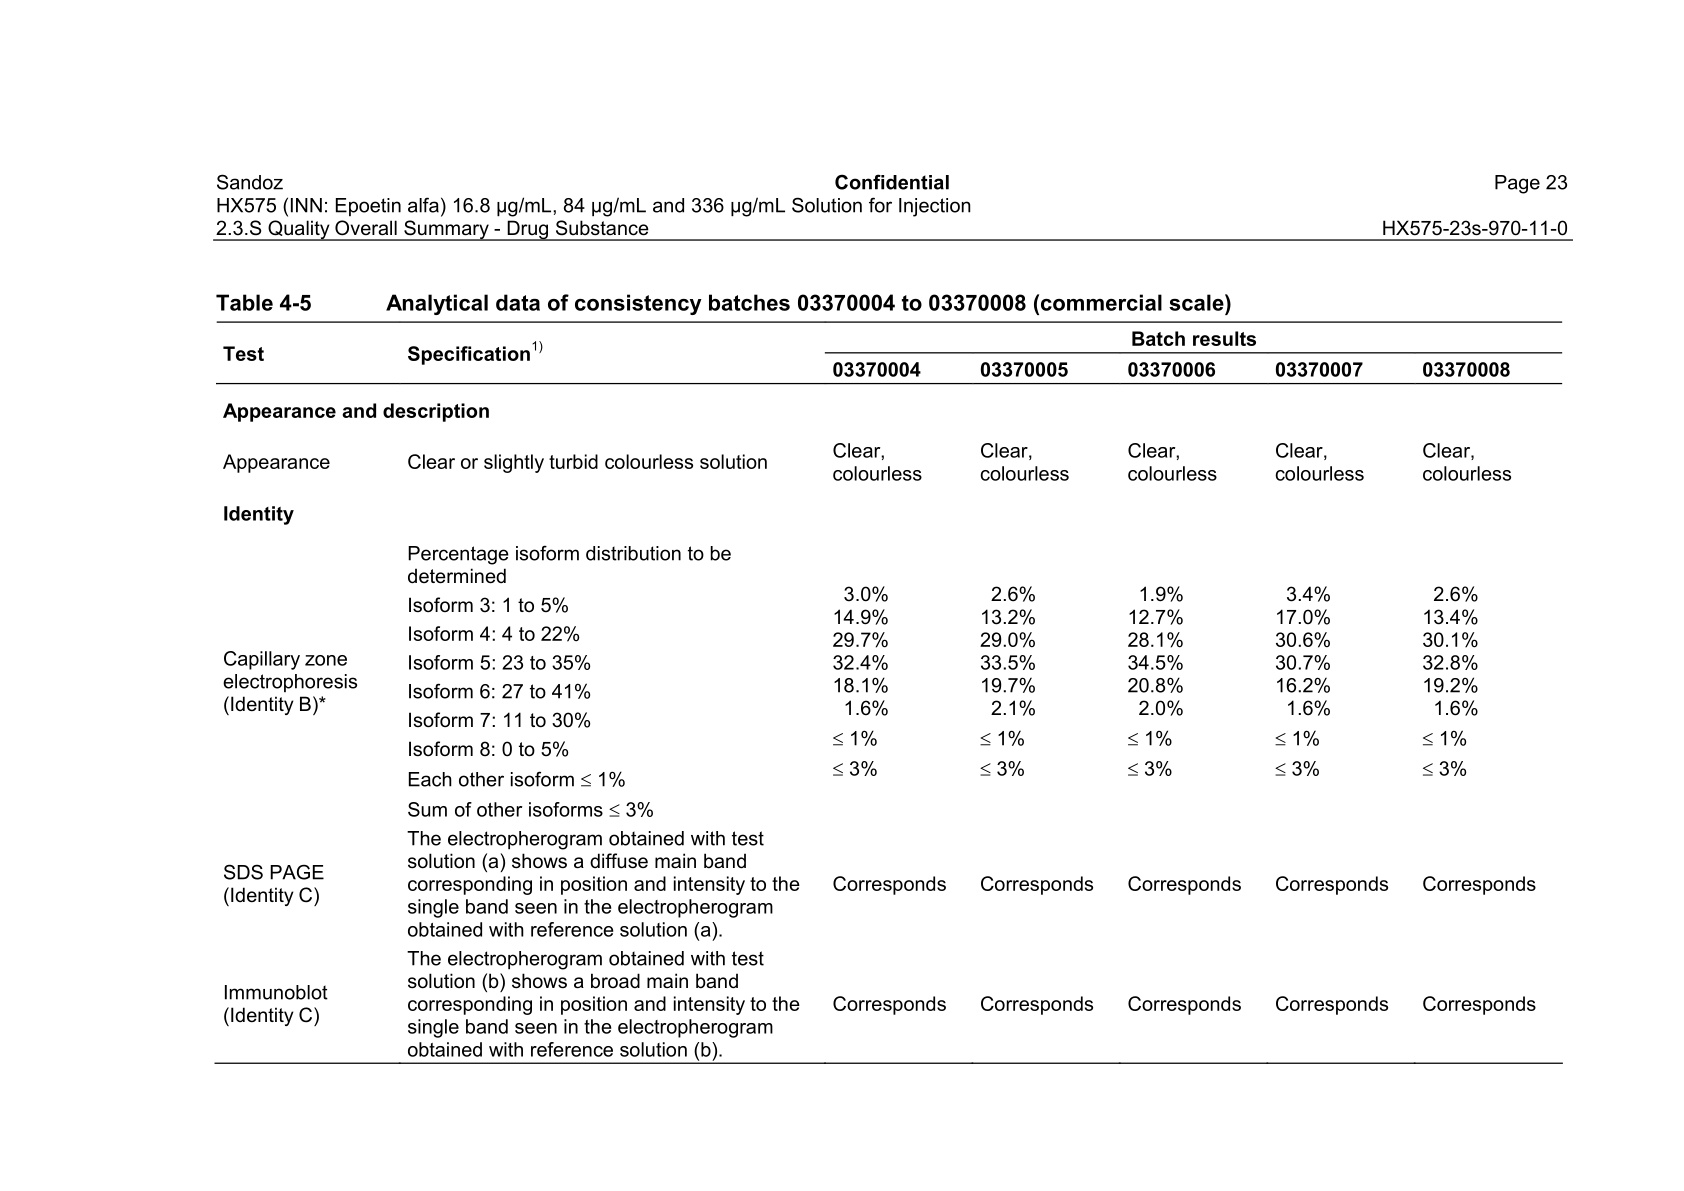partial_lined_merged_cells: (215, 318, 1565, 1065)
